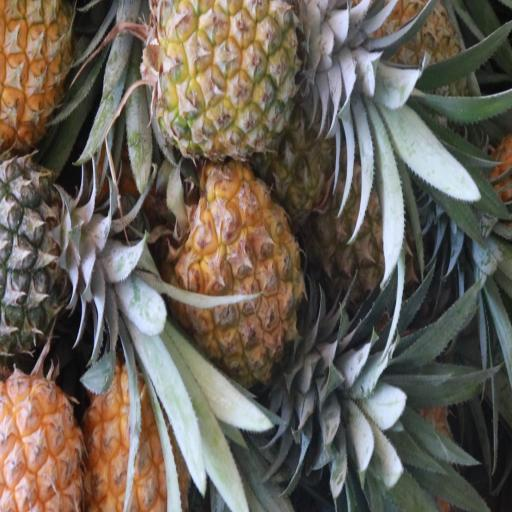------------------------------: (353, 0, 468, 141)
Pineapple - v8 v1: (167, 166, 302, 395), (144, 0, 301, 154), (82, 384, 189, 512), (0, 0, 72, 153)
